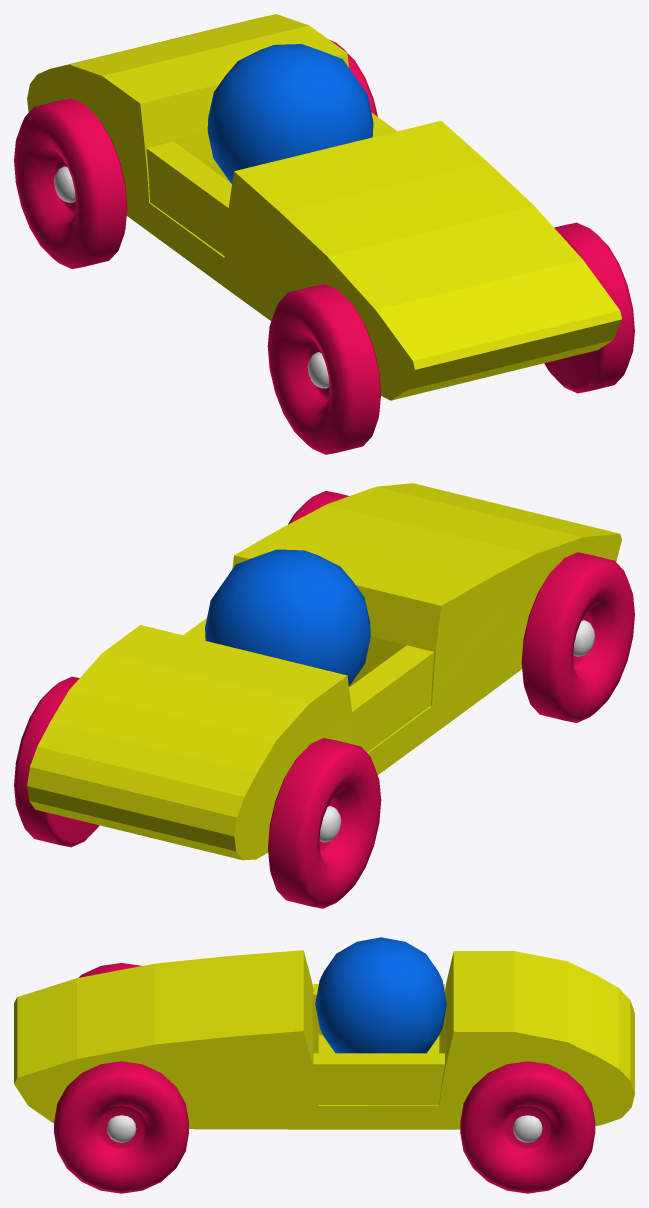
Rendered from sk_DerbyCar.fbx.
The picture shows the model from 3 angles, top to bottom: view 1: azimuth 30°, elevation 25°; view 2: azimuth 150°, elevation 25°; view 3: azimuth 270°, elevation 25°; orthographic projection. The views are drawn at different scales.
Parts seen in each view (by area): view 1: carBody, ball, wheel04, wheel02, wheel01, door02; view 2: carBody, ball, wheel02, wheel04, door02, wheel03, wheel01, axle02, axle04; view 3: carBody, wheel03, wheel01, ball, door01, axle03, axle01, wheel02.
Part boxes in pixels (x1,y1,x2,y2): carBody: (27,14,621,400); ball: (207,44,373,183); wheel04: (14,98,127,268); wheel02: (267,284,380,454); wheel01: (544,222,634,393); door02: (146,141,231,256); carBody: (27,483,621,860); ball: (205,549,370,686); wheel02: (521,552,634,722); wheel04: (268,738,381,908); door02: (349,645,434,752); wheel03: (14,676,99,847); wheel01: (288,491,349,524); axle02: (573,620,594,656); axle04: (319,806,341,842); carBody: (14,950,634,1129); wheel03: (460,1061,595,1193); wheel01: (54,1061,188,1193); ball: (315,937,446,1053); door01: (313,1053,444,1105); axle03: (513,1115,542,1142); axle01: (106,1115,136,1142); wheel02: (78,963,141,977).
Bounding box in the file's own units: 8.2 × 6.43 × 18.49.
